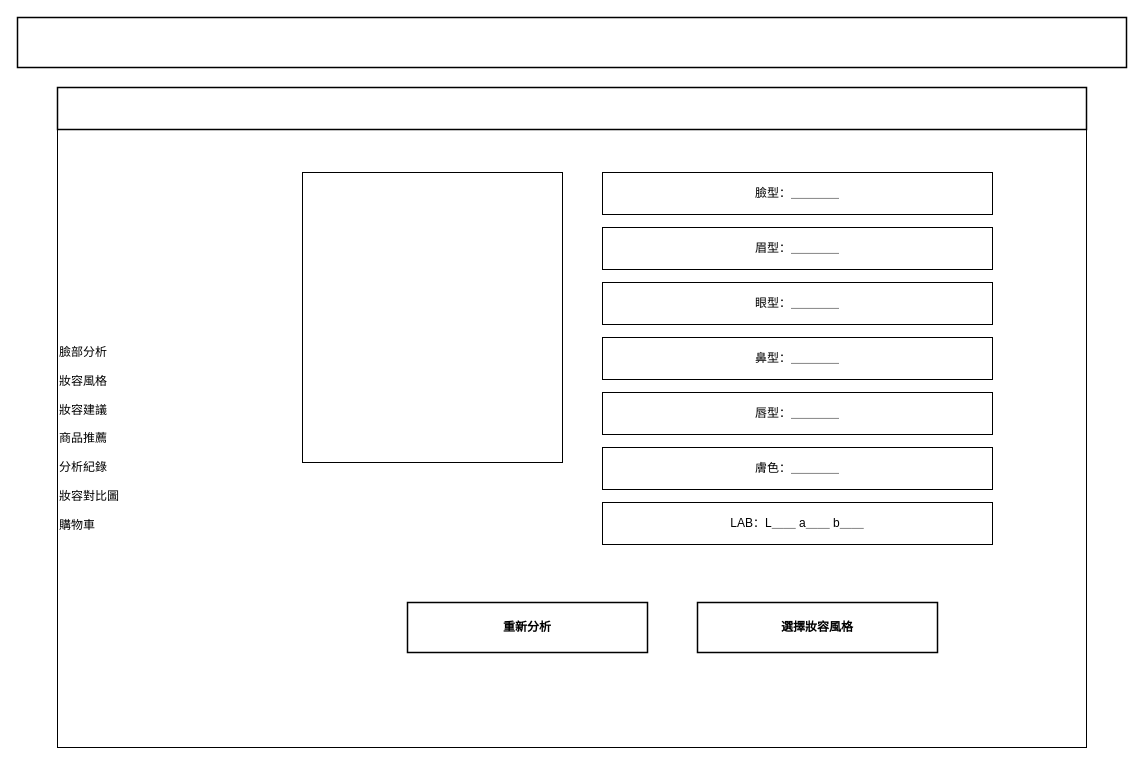
Some shapes in this 1145 by 766 pixel diagram are drawn without their labels. Each missing label, with the box of its shape:
Decorate Me ｜ 臉部分析結果 會員中心 登出: (56, 86, 1087, 130)
圖4-4 臉部分析結果畫面: (16, 16, 1127, 68)
［使用者照片］ 姿態檢查：通過 分析版本：BASIC／PRO: (302, 172, 562, 462)
